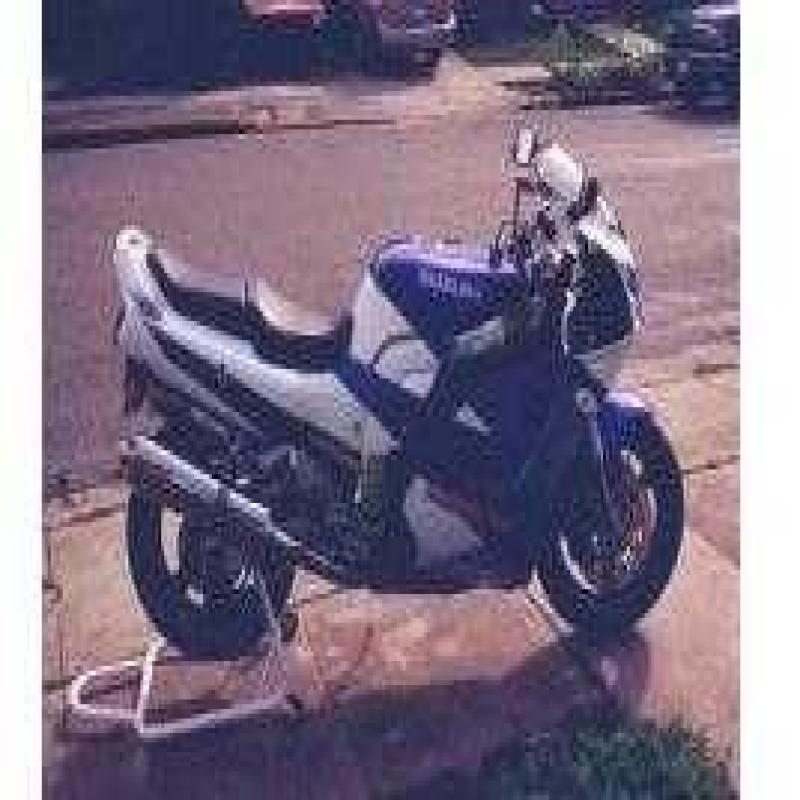bike: (104, 102, 680, 673)
